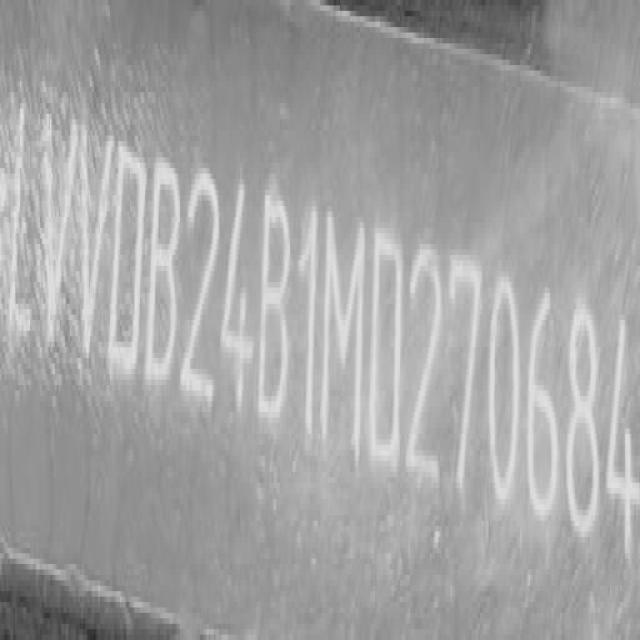0: (486, 264, 525, 520)
1: (297, 187, 323, 455)
2: (405, 231, 448, 492), (184, 156, 223, 416)
4: (604, 298, 640, 564), (220, 162, 256, 427)
6: (524, 278, 566, 529)
7: (444, 241, 484, 514)
8: (562, 289, 605, 545)
B: (256, 170, 295, 438), (146, 149, 183, 396)
D: (368, 211, 410, 485), (0, 86, 35, 350), (112, 132, 148, 386)
M: (312, 194, 369, 469)
V: (32, 99, 74, 363), (74, 121, 114, 380)
